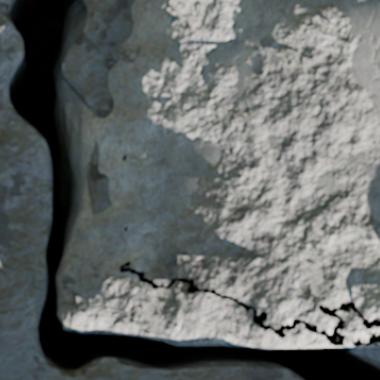brick: (59, 0, 379, 348), (338, 312, 369, 348), (370, 328, 379, 333)
crack: (3, 0, 379, 379)
